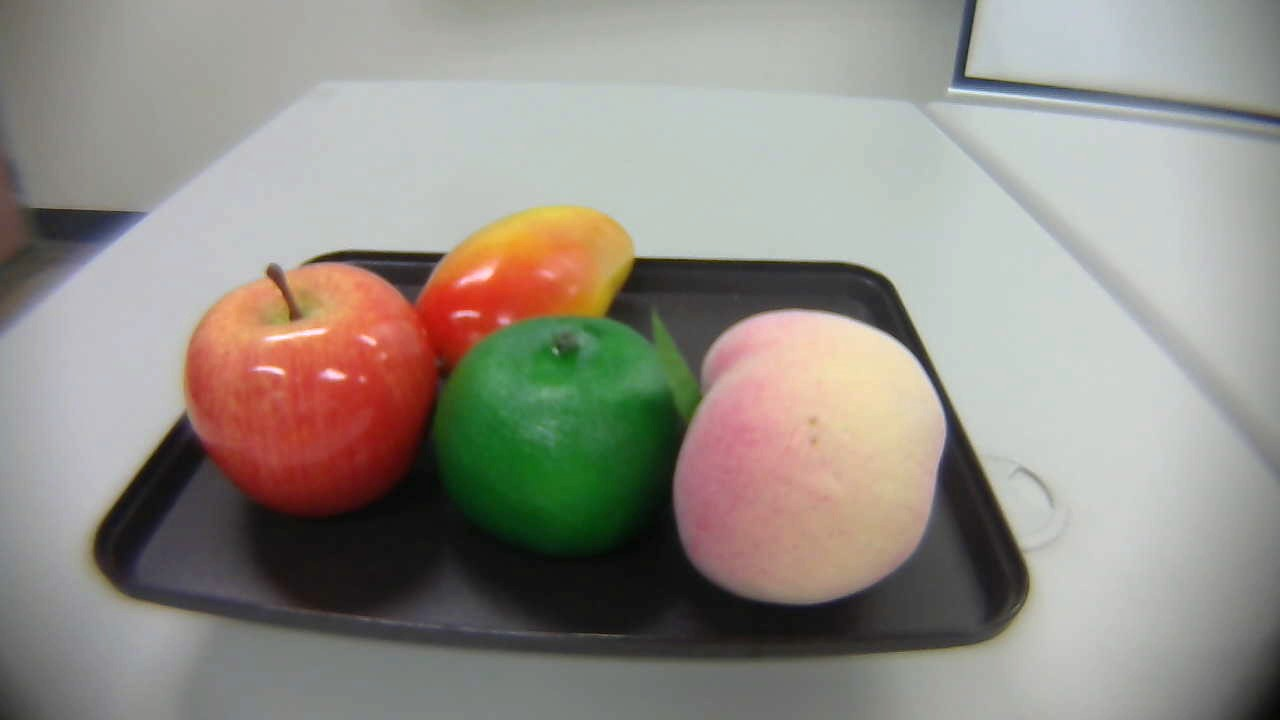green orange: (430, 313, 682, 564)
peach: (647, 303, 950, 604)
red apple: (178, 249, 440, 529)
red mango: (413, 196, 640, 401)
